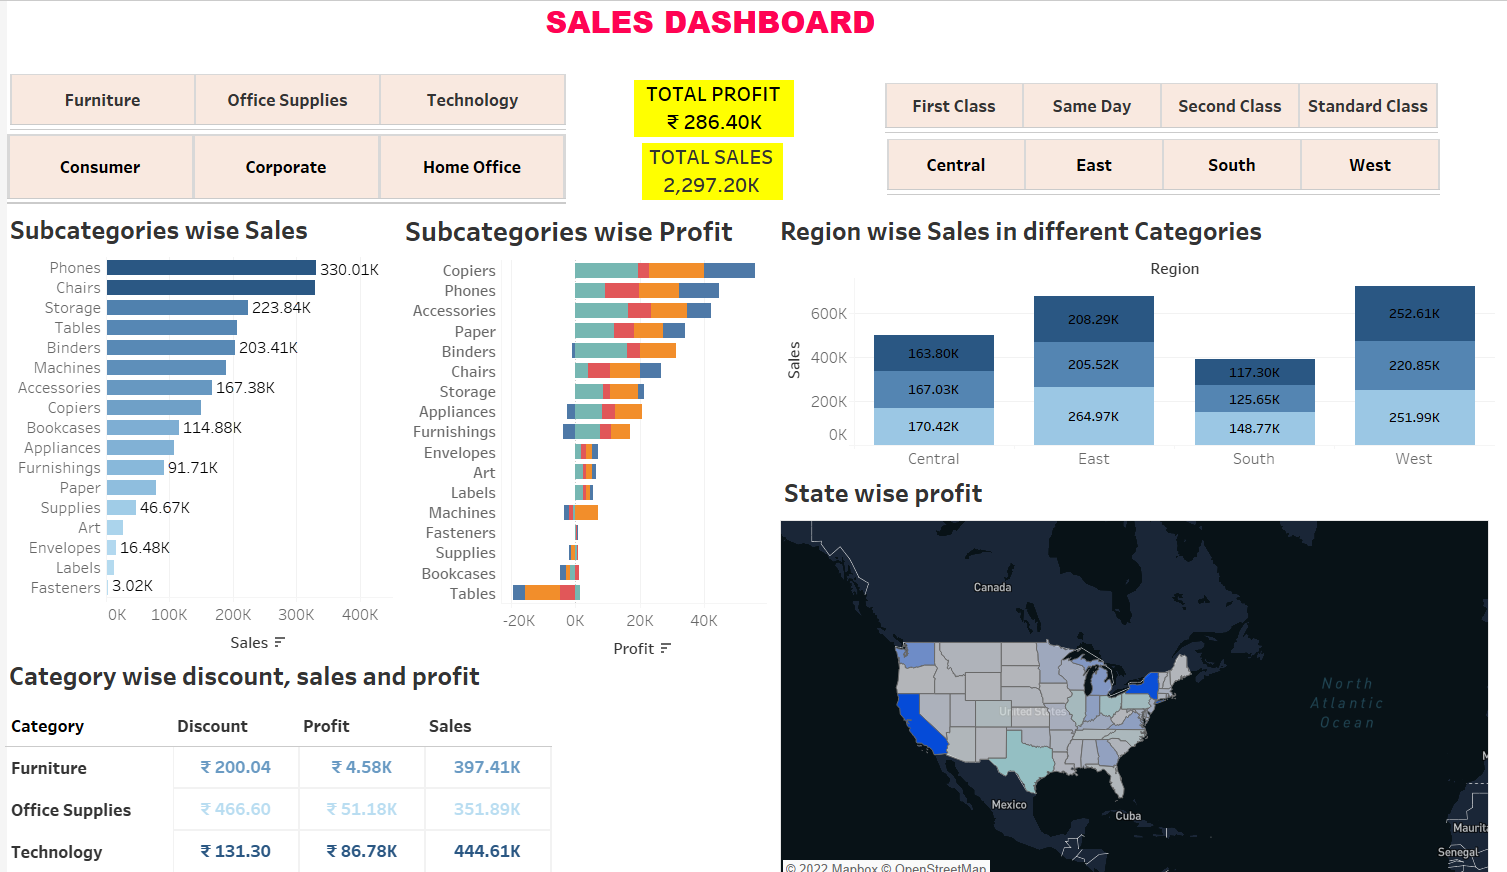

The page's visual inventory and layout, read from the dashboard file:
{"tool":"tableau","page":{"name":"GRIP TASK","canvas":[1500,1200],"ordinal":0},"visuals":[{"type":"text","box":[525,25,357,30]},{"type":"worksheet","title":"Category","mark":"Automatic","cols":["Category"],"box":[2,92,576,63]},{"type":"worksheet","title":"Profit","mark":"Automatic","box":[627,99,160,61]},{"type":"worksheet","title":"Ship Mode","mark":"Automatic","cols":["Ship Mode"],"box":[877,101,610,54]},{"type":"worksheet","title":"Region","mark":"Automatic","cols":["Region"],"box":[879,157,602,57]},{"type":"worksheet","title":"Sales","mark":"Automatic","box":[635,162,192,57]},{"type":"worksheet","title":"Subcategories wise Profit","mark":"Automatic","rows":["Sub-Category"],"cols":["Profit"],"box":[394,227,366,458]},{"type":"worksheet","title":"Region wise Sales in different Categories","mark":"Automatic","rows":["Sales"],"cols":["Region"],"box":[763,228,725,261]},{"type":"worksheet","title":"State wise profit","mark":"Automatic","box":[773,490,709,424]}]}

Visuals, with their boxes on the page's 1500x1200 design canvas (x1, y1, x2, y2). These are canvas units, not pixel positions in the 1507x872 screenshot, which may show the page scaled, cropped or inside an application window:
text: 525,25,882,55
"Category" worksheet: 2,92,578,155
"Profit" worksheet: 627,99,787,160
"Ship Mode" worksheet: 877,101,1487,155
"Region" worksheet: 879,157,1481,214
"Sales" worksheet: 635,162,827,219
"Subcategories wise Profit" worksheet: 394,227,760,685
"Region wise Sales in different Categories" worksheet: 763,228,1488,489
"State wise profit" worksheet: 773,490,1482,914
